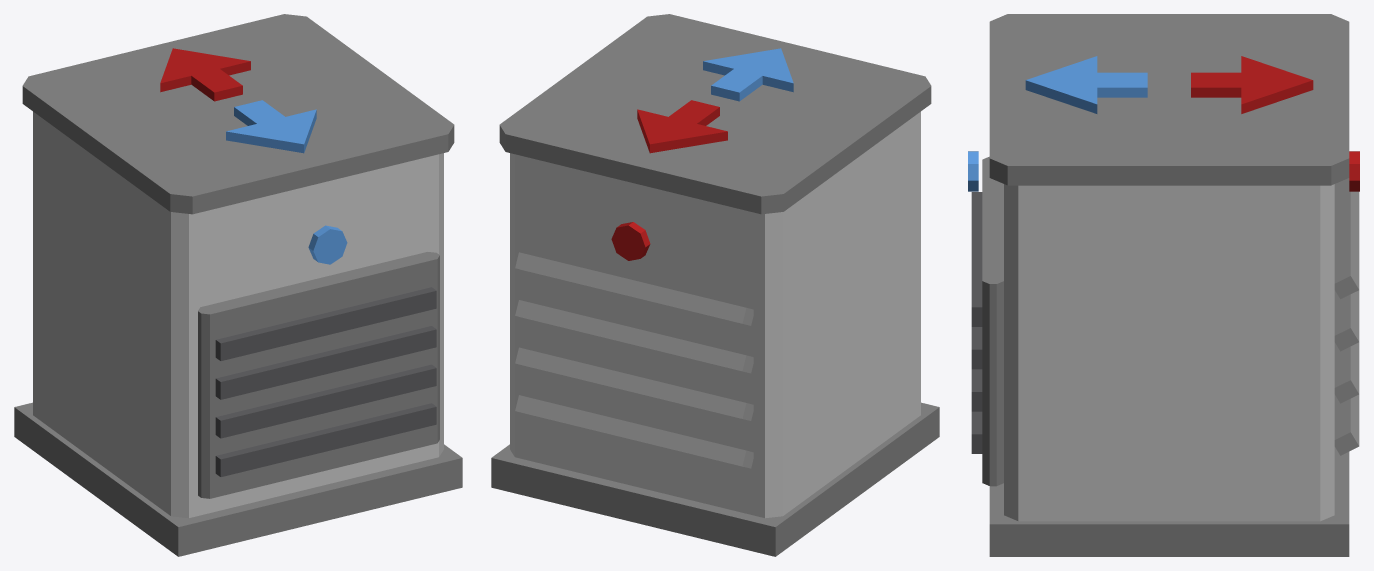
File: cooler.obj
3 renders of one model, left to right at view 1: azimuth 30°, elevation 25°; view 2: azimuth 150°, elevation 25°; view 3: azimuth 270°, elevation 25°, orthographic. The views are drawn at different scales.
Parts seen in each view (by area): view 1: cooler; view 2: cooler; view 3: cooler.
Boxes of the visible parts, <box> form: cooler: <box>14,14,462,556</box>; cooler: <box>491,14,939,556</box>; cooler: <box>968,14,1359,556</box>.
Size of the model in its own units: 1 by 1.23 by 1.09.
